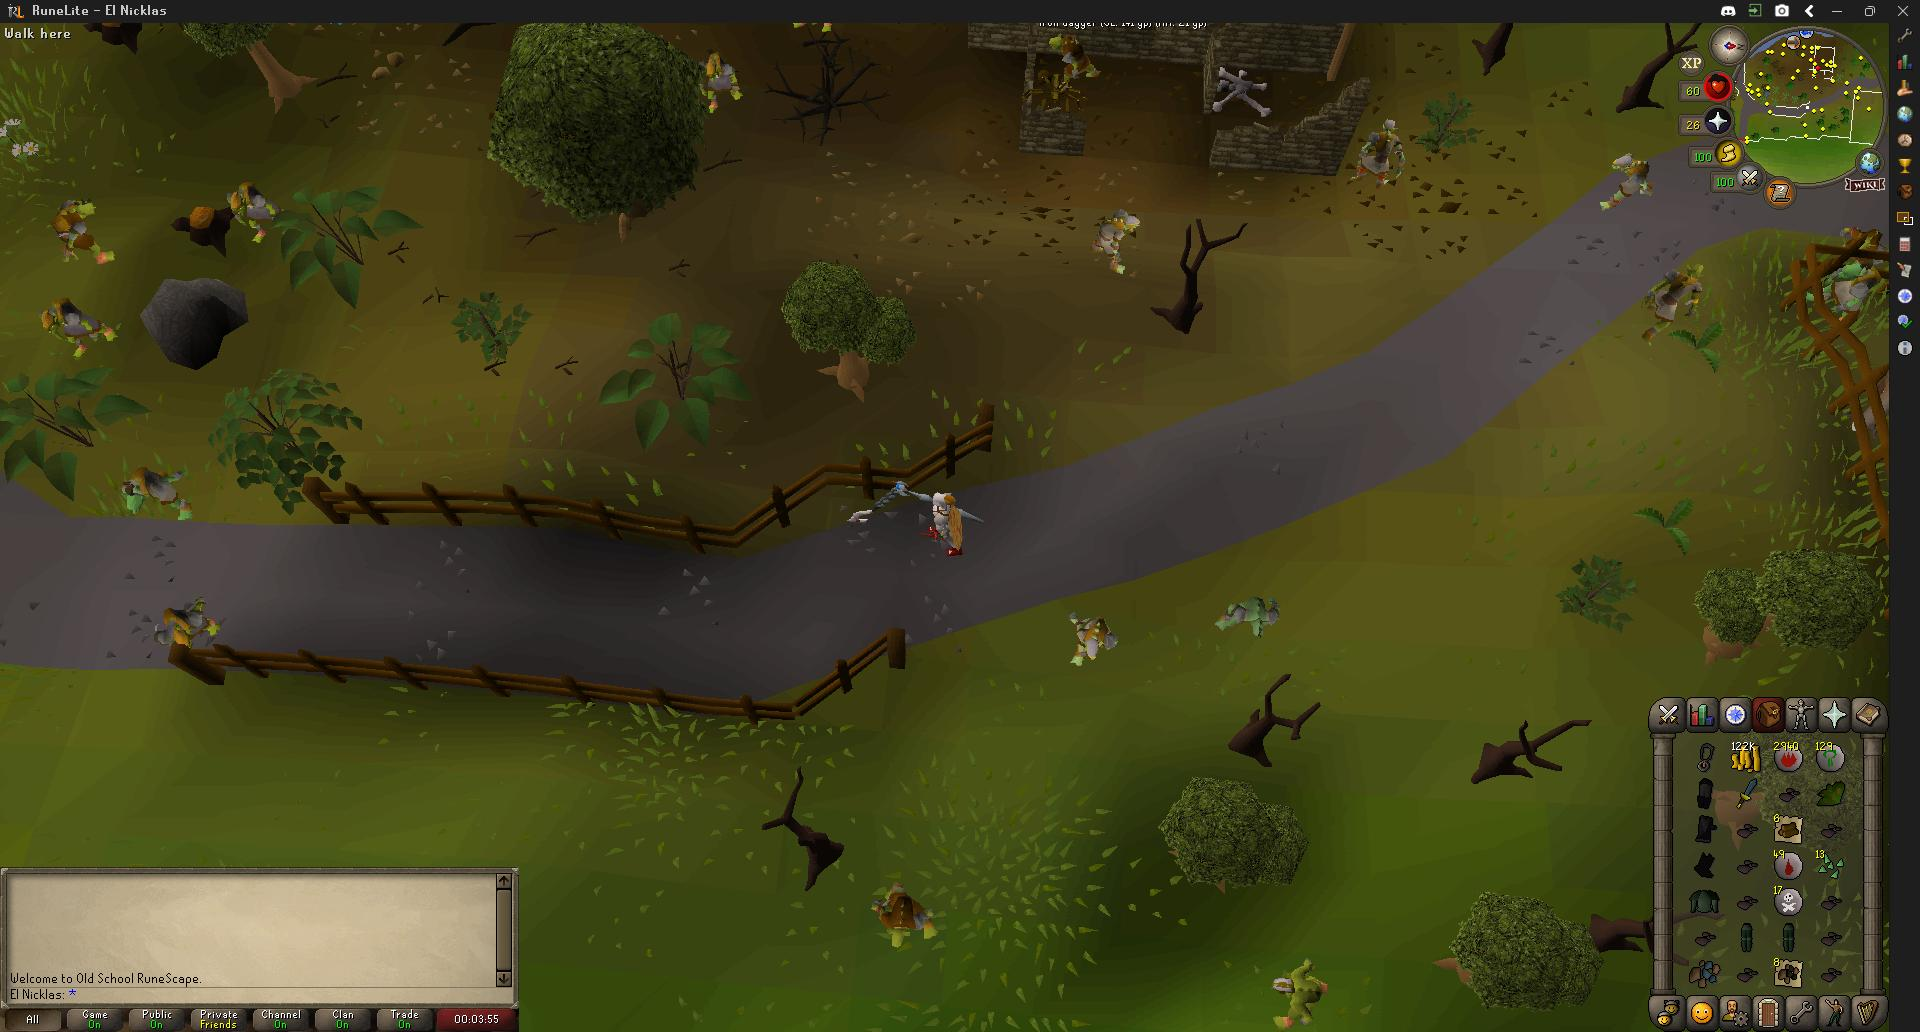Player: (926, 491, 966, 553)
goblin: (1821, 235, 1888, 321), (1640, 265, 1704, 343), (40, 295, 119, 356), (870, 880, 934, 943), (1262, 957, 1318, 1027), (1352, 117, 1406, 187), (122, 468, 195, 519), (51, 198, 105, 265), (152, 597, 225, 646), (1092, 208, 1143, 276), (1595, 149, 1649, 210), (227, 180, 279, 242), (1214, 598, 1282, 638), (1052, 30, 1103, 81), (1069, 612, 1119, 659), (703, 50, 740, 111)
